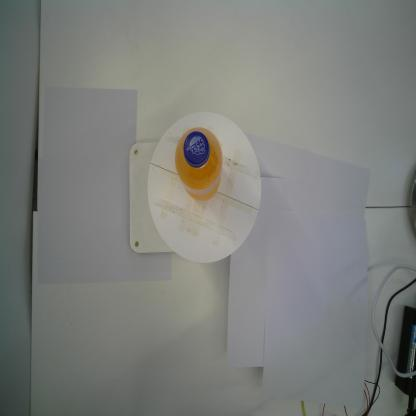Drink: (174, 125, 224, 205)
